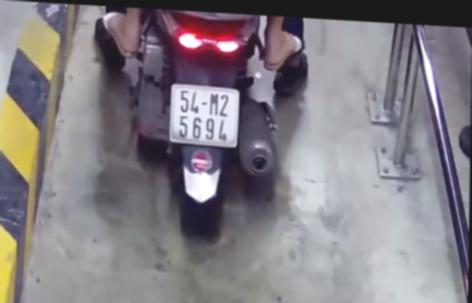License_Plate: (165, 81, 244, 156)
